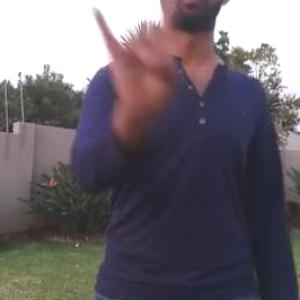takeoff-hand: (84, 0, 183, 134)
